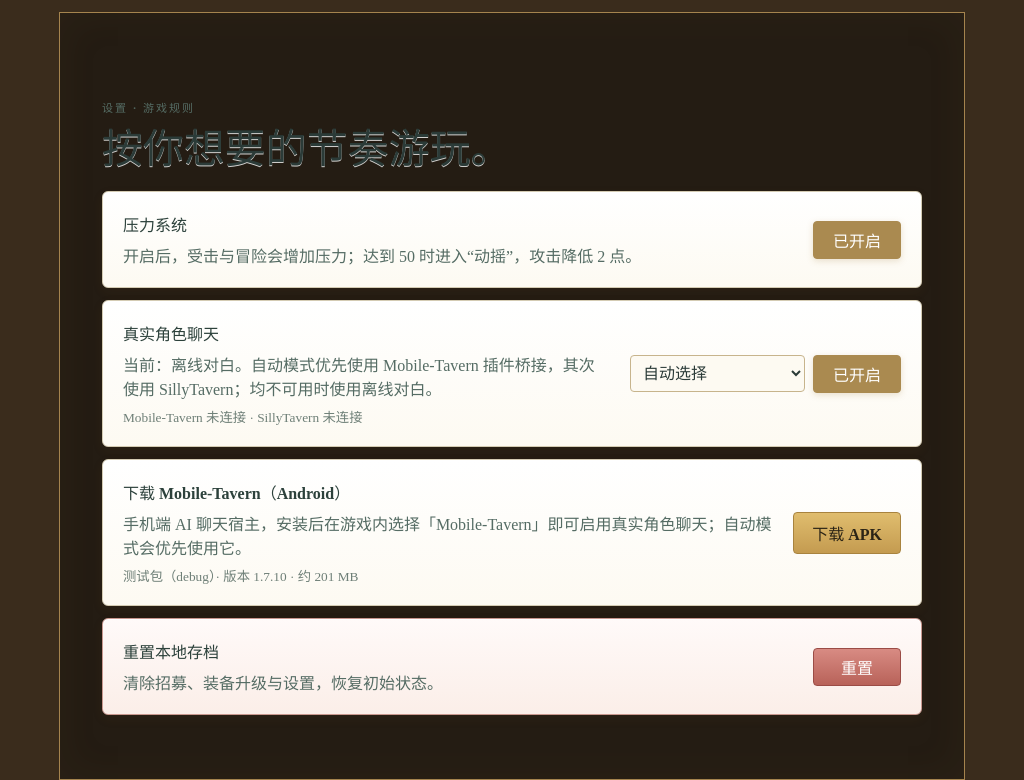
Test: Settings 页面组件 › 选择“独立API(如Ollama)”后，应正确渲染 API 端点、密钥、模型和超时的配置表单
This screenshot has width=1024, height=780.
Expected: the text "独立 API 配置" is not shown
// 切换到 direct
Select "独立API(如Ollama)" in the dropdown named "聊天接口" at [718, 374], box [630,355,805,392]
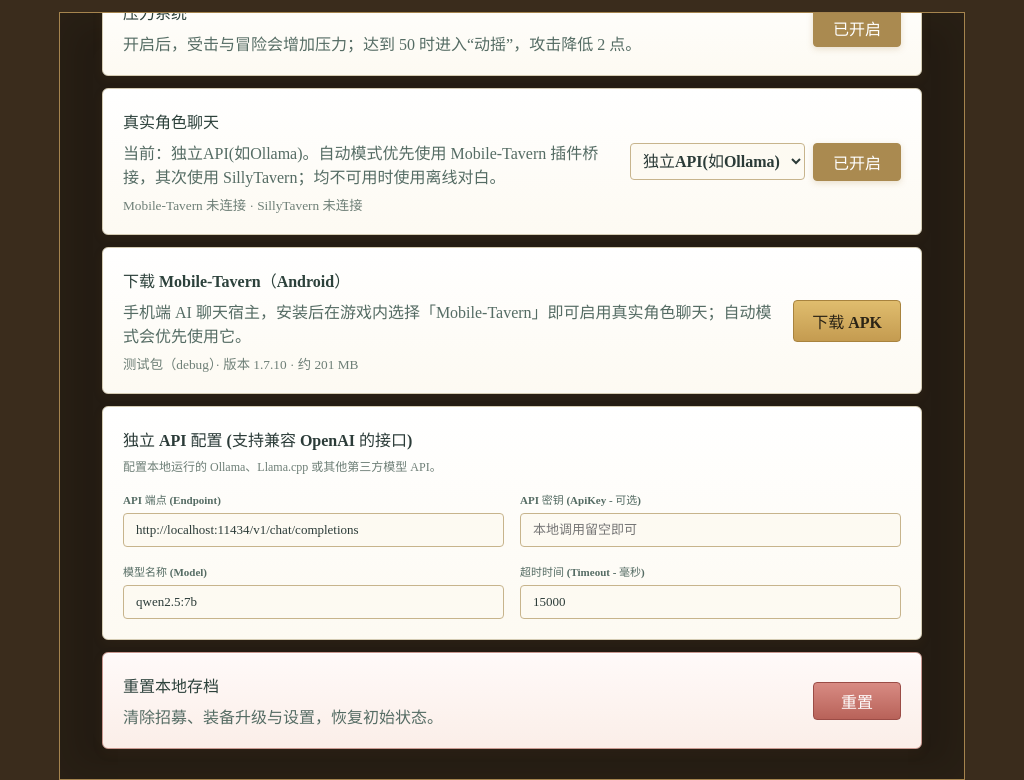
Now the heading "独立 API 配置 (支持兼容 OpenAI 的接口)" is shown, box [123,432,412,449]
Now the field labelled "API 端点 (Endpoint)" is shown, box [123,513,504,547]
Now the password field labelled "API 密钥 (ApiKey - 可选)" is shown, box [520,513,901,547]
